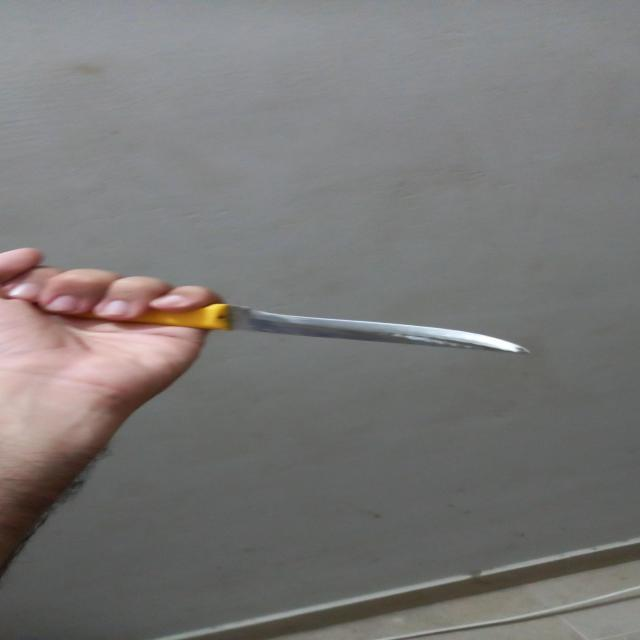faca: (71, 304, 528, 354)
